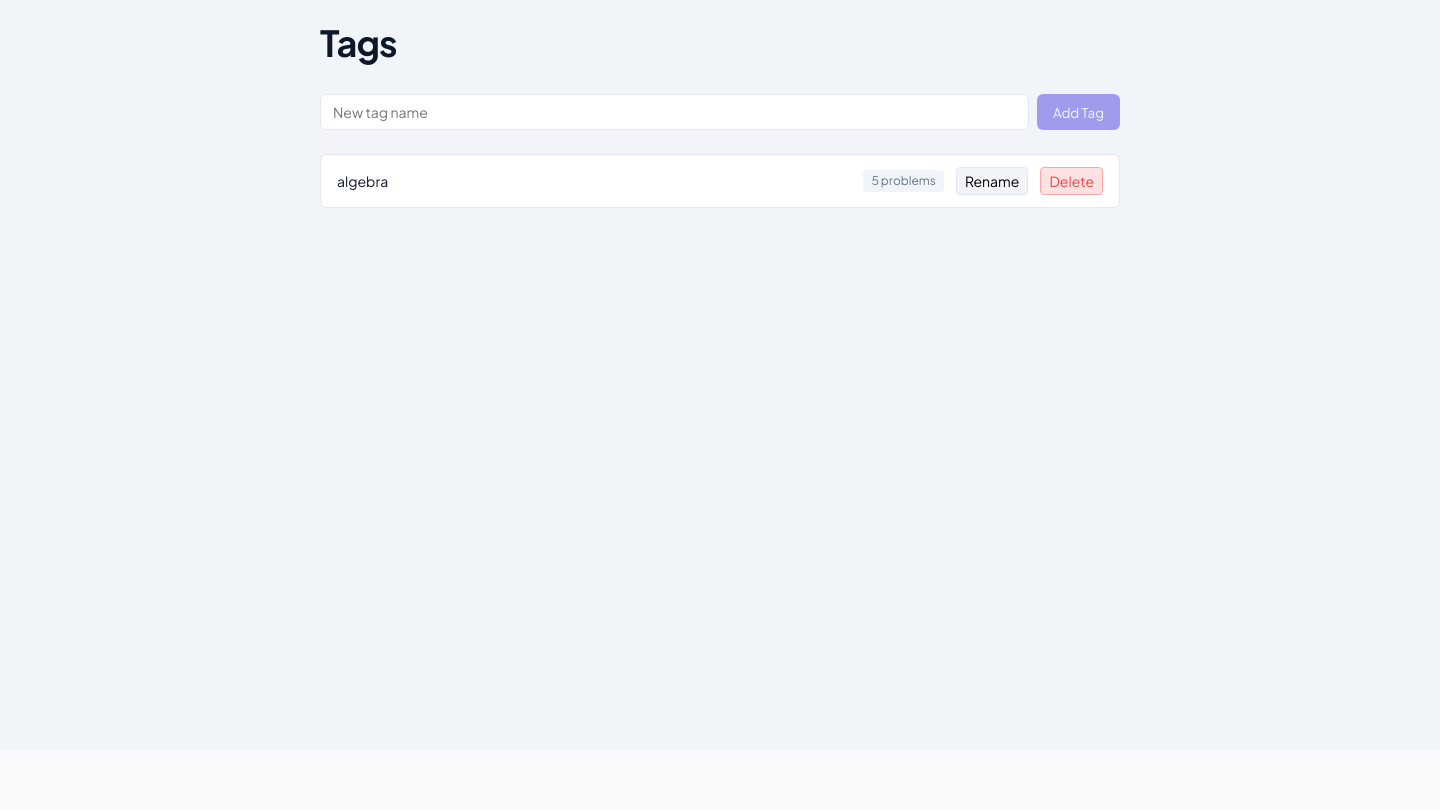
Test: TagsPage › deletes a tag with confirmation
Expected: the text "algebra" is shown, [337, 172, 388, 190]
What coordinates should you click on to do the following:
click the button with test id "delete-tag-button-t1"
I would click on:
 (1072, 181)
Its box is [1040, 167, 1103, 195].
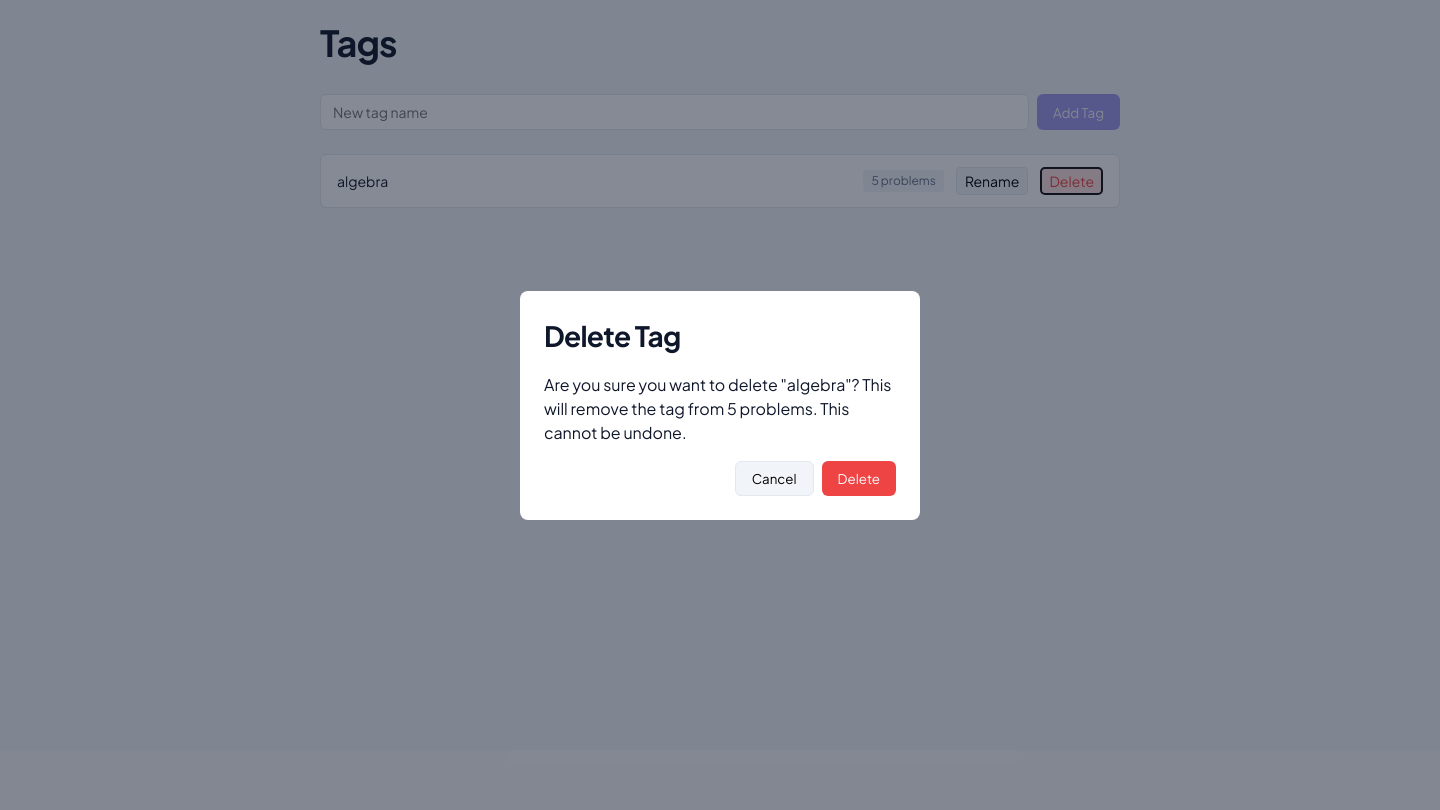
Now the dialog with test id "delete-confirm-modal" is shown
Now the text "Are you sure you want to delete \"algebra\"" is shown, box [544, 372, 896, 444]
What coordinates should you click on to do the following:
click the button with test id "confirm-delete-button"
I would click on:
 (859, 478)
Its box is [822, 460, 896, 496].
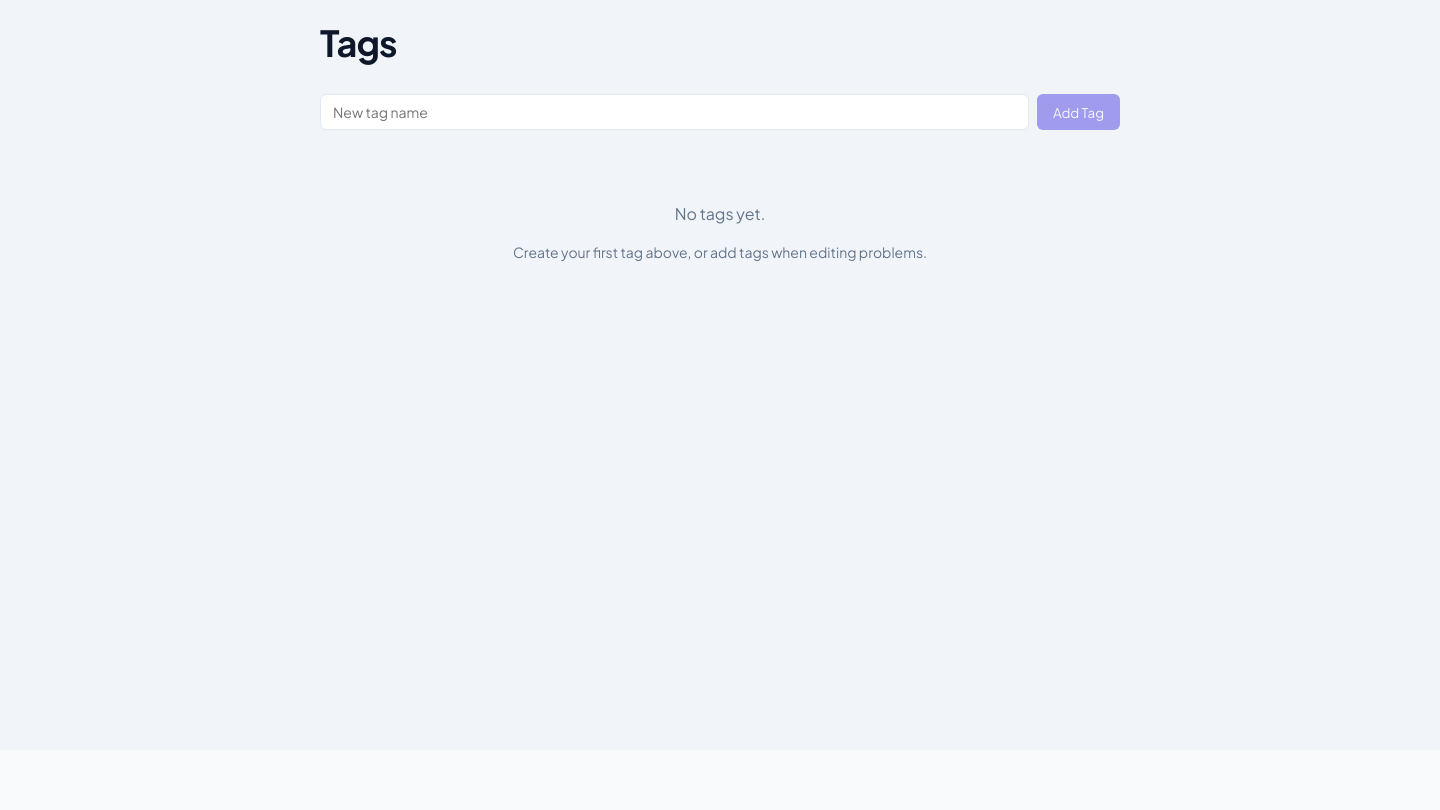
Now the element with test id "empty-state" is shown, box [513, 203, 927, 261]
